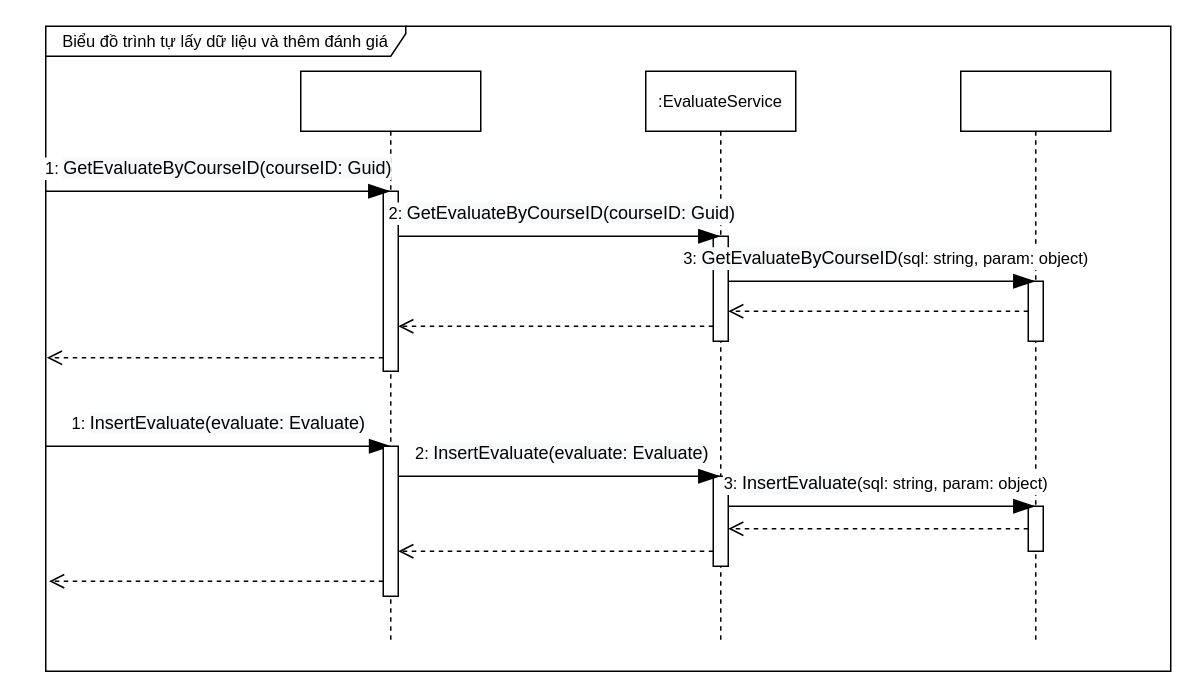
Image size: 1197x698. Some labels were removed from this diagram. The box of each missing label's shape, as (x1, y1, x2, y2) in pixels:
:EvaluateController: (299, 70, 481, 641)
:EvaluateRepo: (959, 70, 1111, 641)
